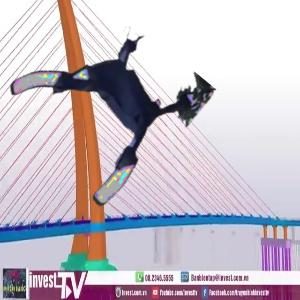drone: (19, 20, 186, 187)
